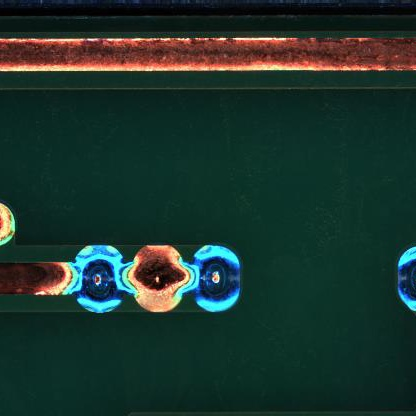spot: (73, 243, 127, 313), (193, 243, 243, 315)
